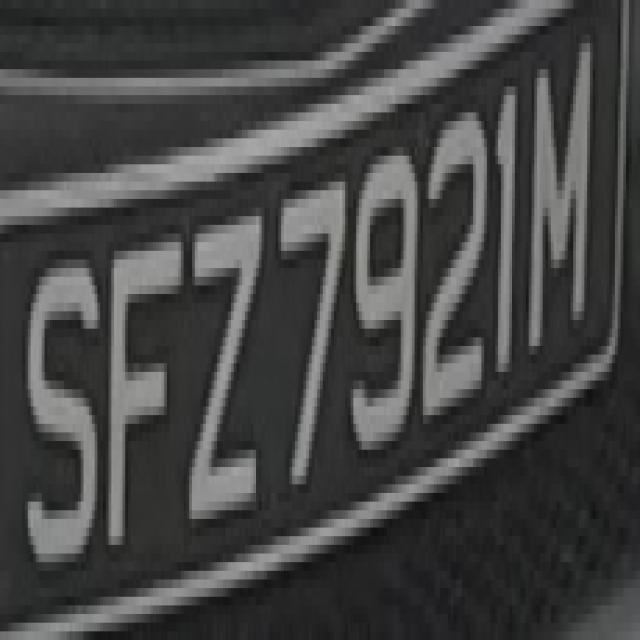1: (490, 43, 518, 372)
2: (420, 121, 490, 424)
7: (267, 173, 351, 484)
9: (348, 138, 420, 467)
F: (103, 199, 181, 579)
M: (526, 60, 598, 398)
S: (25, 225, 103, 597)
Z: (181, 199, 259, 553)
